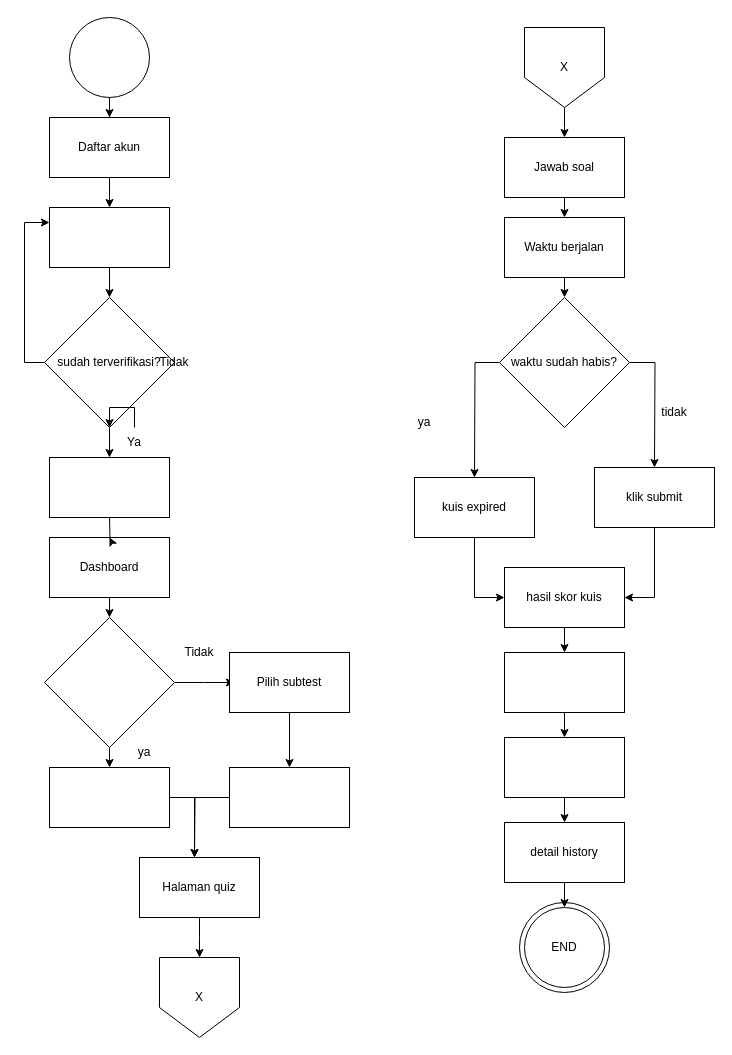
Image size: 732x1055. Some labels were removed from this diagram. Each missing label, with the centre of its shape:
"halaman hasil" belongs at point (564, 682).
"history" belongs at point (564, 767).
"kuis aktif?" belongs at point (109, 682).
"Login" belongs at point (109, 487).
"Start" belongs at point (109, 57).
"tekan tombil mulai quiz" belongs at point (289, 797).
"tekan tombol lanjut quiz" belongs at point (109, 797).
"Verifikasi email" belongs at point (109, 237).
